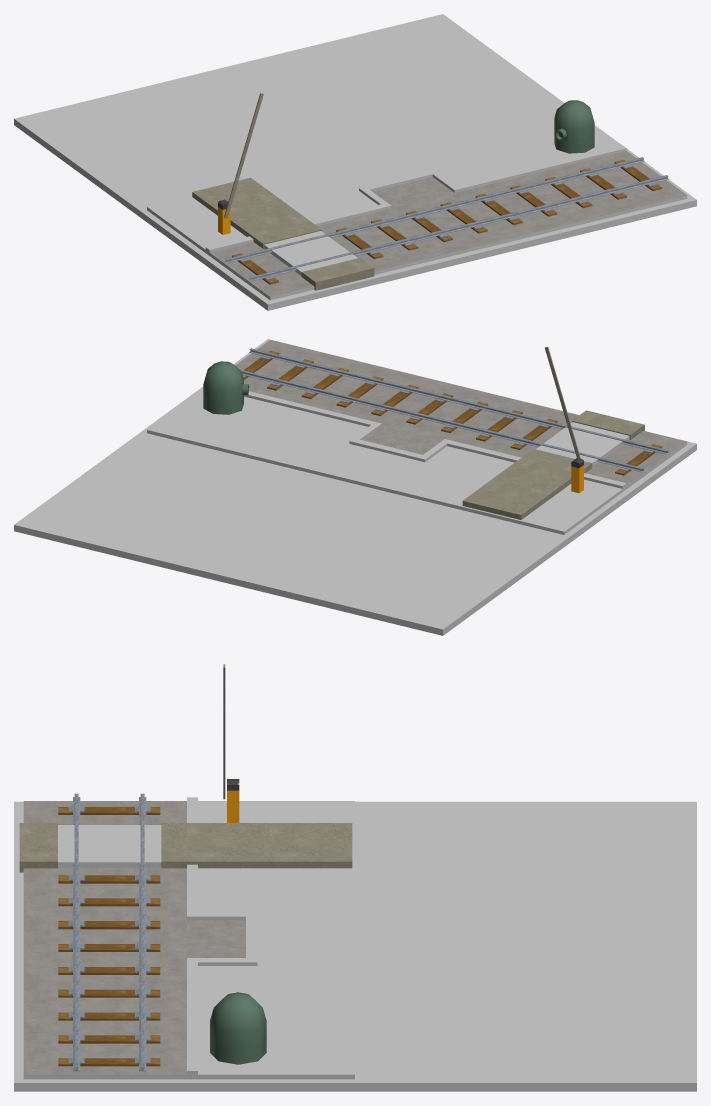
Rendered from Geungnakgang_Base.fbx.
3 views of the same model, one above another, from view 1: azimuth 30°, elevation 25°; view 2: azimuth 150°, elevation 25°; view 3: azimuth 270°, elevation 25° (orthographic). The views are drawn at different scales.
Parts seen in each view (by area): view 1: Common_Ground, Geungnakgang_Station_mat-2, Geungnakgang_Station_mat-1; view 2: Common_Ground, Geungnakgang_Station_mat-2, Geungnakgang_Station_mat-1; view 3: Common_Ground, Geungnakgang_Station_mat-2, Geungnakgang_Station_mat-1.
Part boxes in pixels (x1,y1,x2,y2): Common_Ground: [14, 14, 696, 310]; Geungnakgang_Station_mat-2: [210, 151, 686, 296]; Geungnakgang_Station_mat-1: [192, 93, 594, 290]; Common_Ground: [14, 339, 696, 635]; Geungnakgang_Station_mat-2: [235, 340, 686, 485]; Geungnakgang_Station_mat-1: [203, 347, 644, 519]; Common_Ground: [14, 797, 696, 1091]; Geungnakgang_Station_mat-2: [23, 793, 245, 1074]; Geungnakgang_Station_mat-1: [19, 664, 352, 1064].
Size of the model in its own units: 1972 by 628 by 2022.
